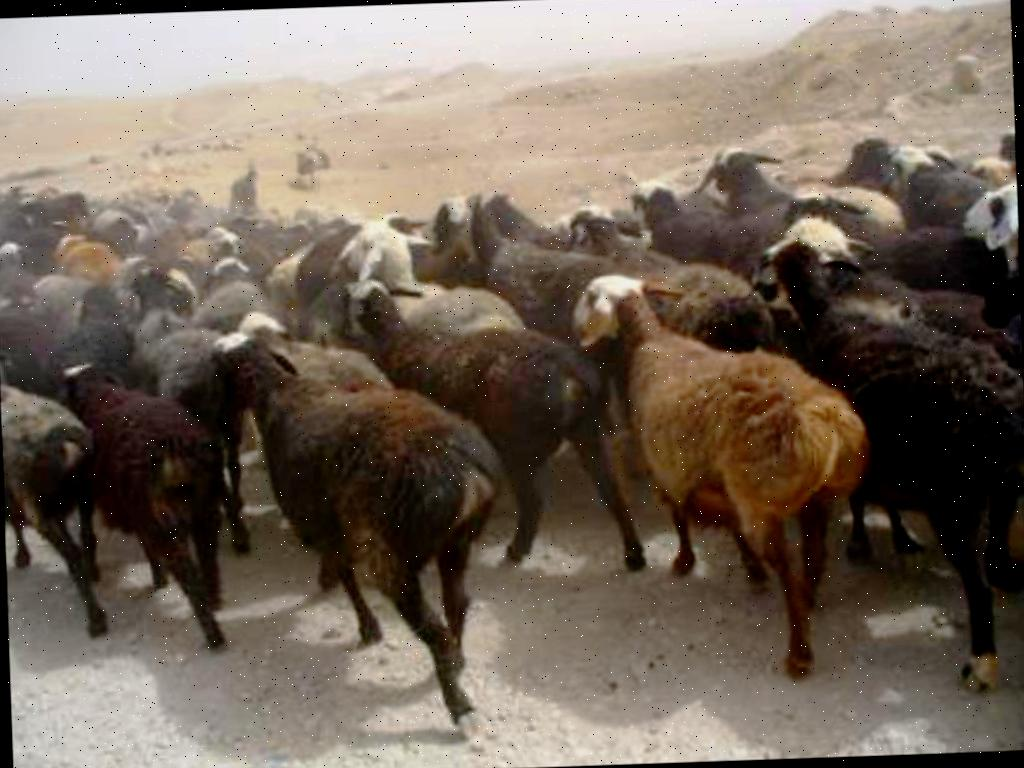Sheep: (563, 260, 894, 696), (216, 326, 512, 738), (776, 237, 1024, 688), (343, 272, 633, 575), (55, 358, 245, 650), (131, 304, 289, 556), (765, 223, 1014, 371), (0, 380, 108, 636), (685, 118, 874, 244), (862, 181, 1022, 314), (639, 258, 782, 358), (251, 310, 386, 400), (44, 286, 145, 398), (467, 186, 619, 260), (372, 271, 520, 343), (224, 213, 320, 280), (2, 188, 92, 240)
